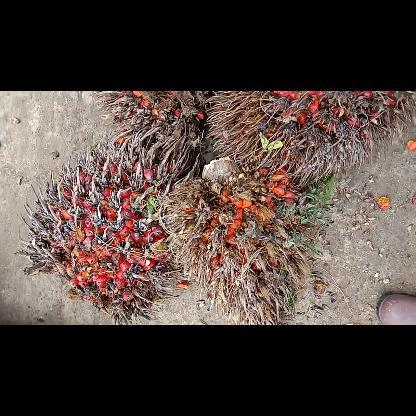Terlalu masak: (10, 142, 200, 324), (163, 152, 320, 324), (200, 91, 416, 185)
